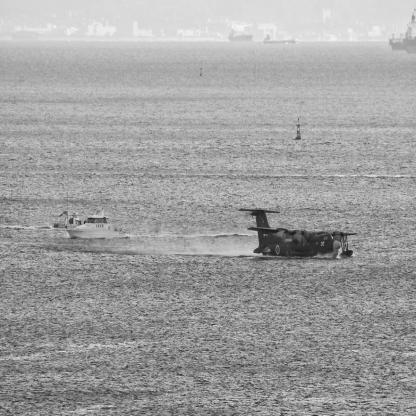US2: (238, 208, 358, 260)
